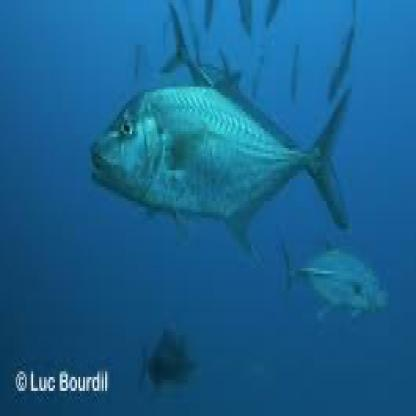Carangidae -Jacks-: (73, 46, 354, 255)
